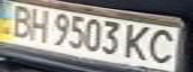0: (81, 17, 103, 54)
3: (100, 19, 124, 56)
5: (63, 13, 87, 51)
9: (45, 11, 72, 47)
B: (3, 2, 39, 38)
C: (142, 27, 184, 65)
H: (24, 7, 54, 43)
K: (121, 23, 154, 62)
